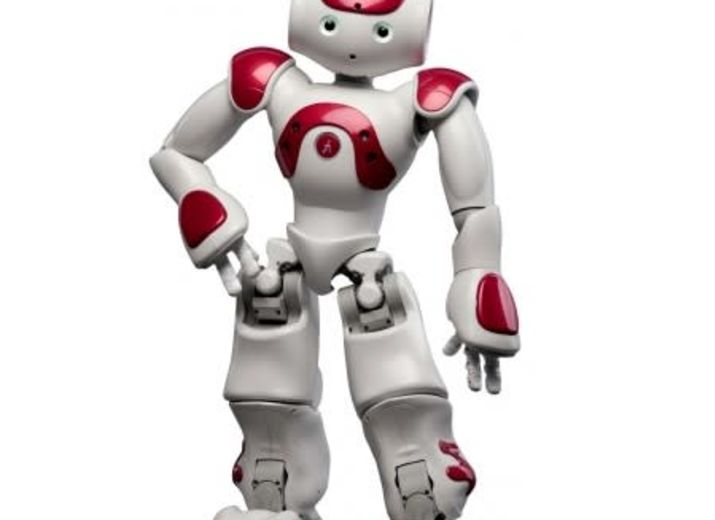nao: (134, 1, 536, 520)
